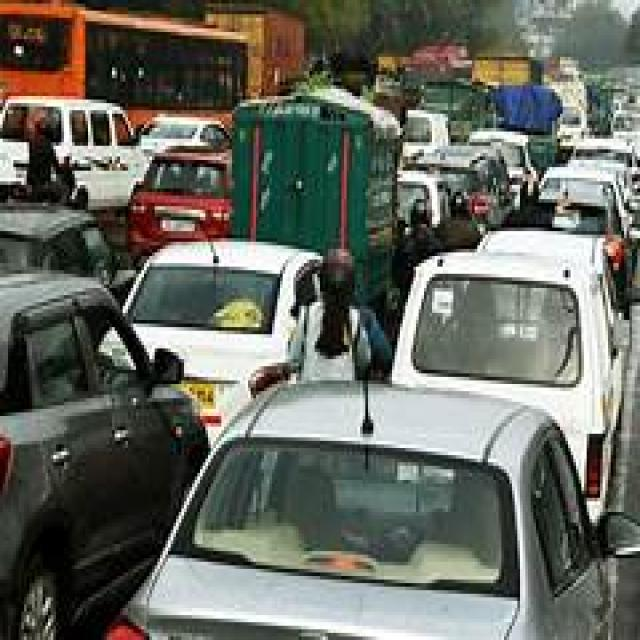Car: (0, 233, 640, 638), (392, 232, 624, 522), (124, 147, 321, 441), (0, 208, 118, 284)
